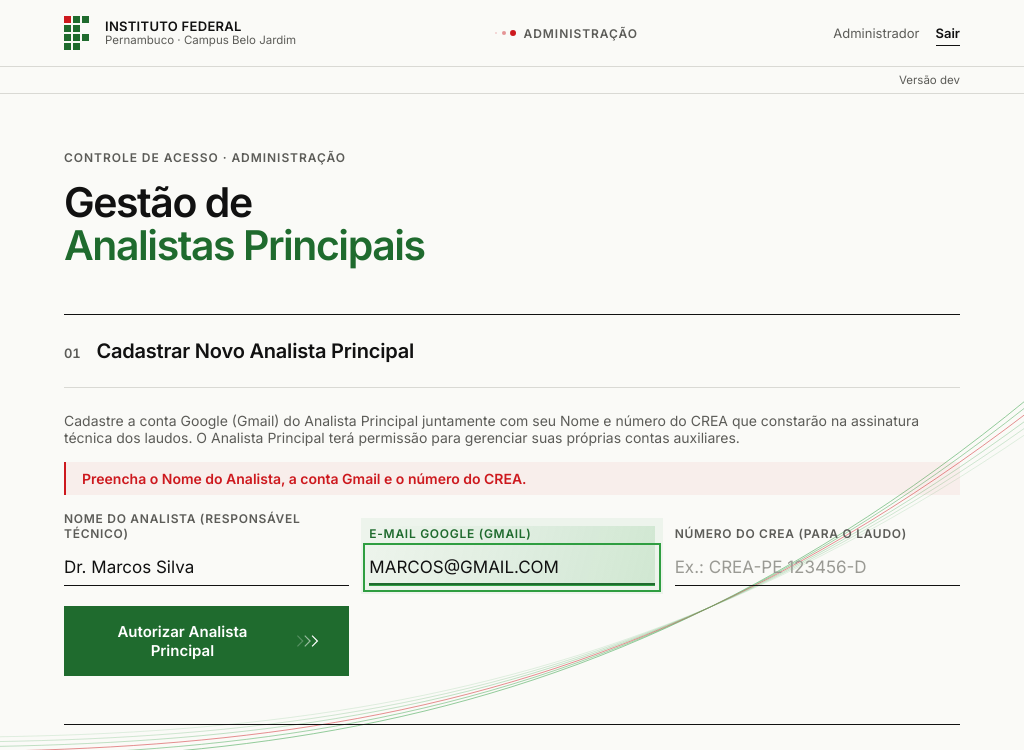
Test: PowerUserPage › valida campos obrigatórios, cadastra analista com sucesso e trata erro 409
The width and height of the screenshot is (1024, 750).
Earlier steps of the test are not shown.
Type "CREA-PE 99999-D" into the field labelled "Número do CREA (para o Laudo)" at (817, 568), box [675,549,960,586]
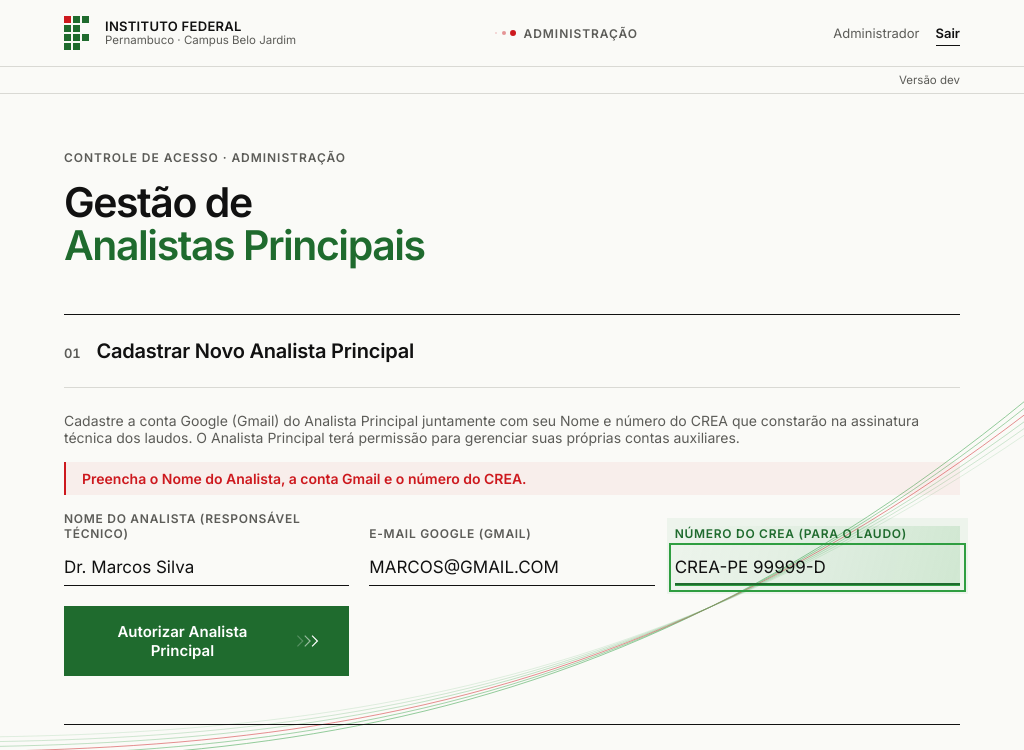
Click the button "Autorizar Analista Principal" at (207, 641), box [64,606,349,676]
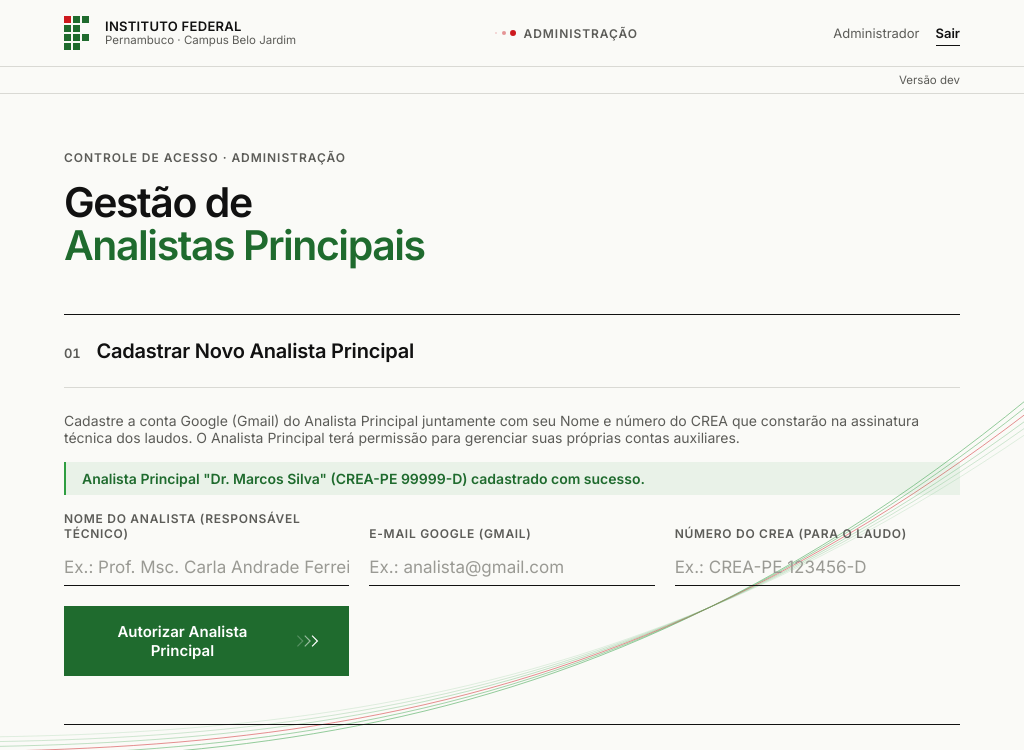
Expected: the message reads "Analista Principal \"Dr. Marcos Silva\" (CREA-PE 99999-D) cadastrado com sucesso.", [82,470,645,487]
Expected: the field labelled "Nome do Analista (Responsável Técnico)" is empty
Expected: the field labelled "E-mail Google (Gmail)" is empty, [369,549,655,586]
// Tenta cadastrar duplicado e recebe 409
Type "Outro" into the field labelled "Nome do Analista (Responsável Técnico)" at (207, 568), box [64,549,349,586]
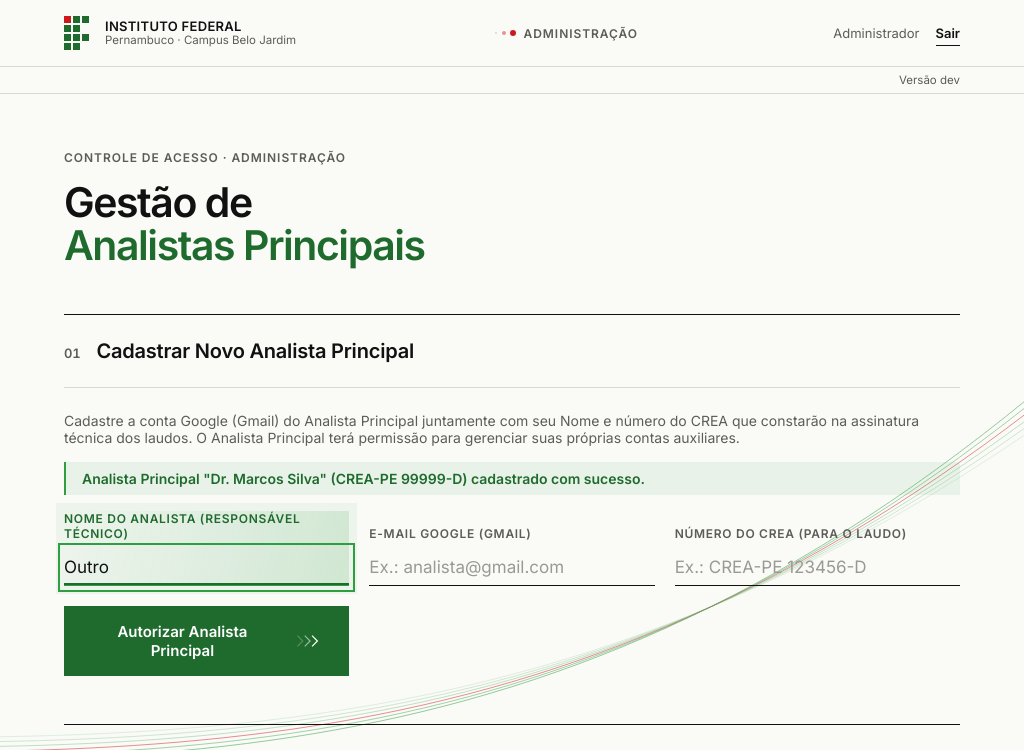
Type "marcos@gmail.com" into the field labelled "E-mail Google (Gmail)" at (512, 568), box [369,549,655,586]
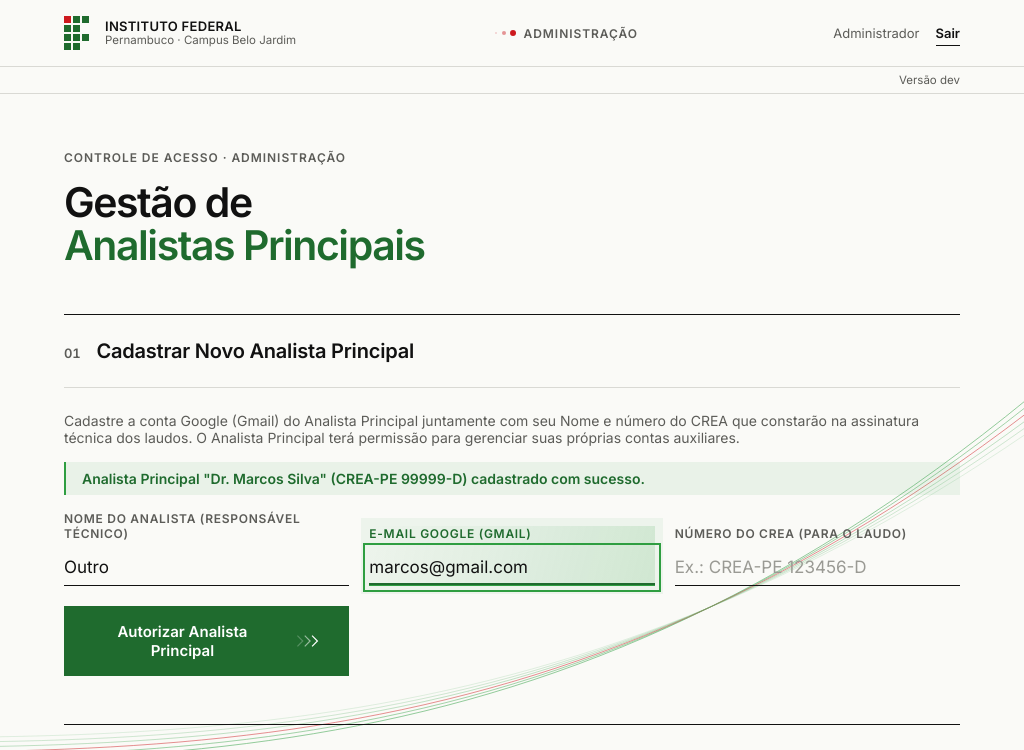
Type "CREA-PE 11111-D" into the field labelled "Número do CREA (para o Laudo)" at (817, 568), box [675,549,960,586]
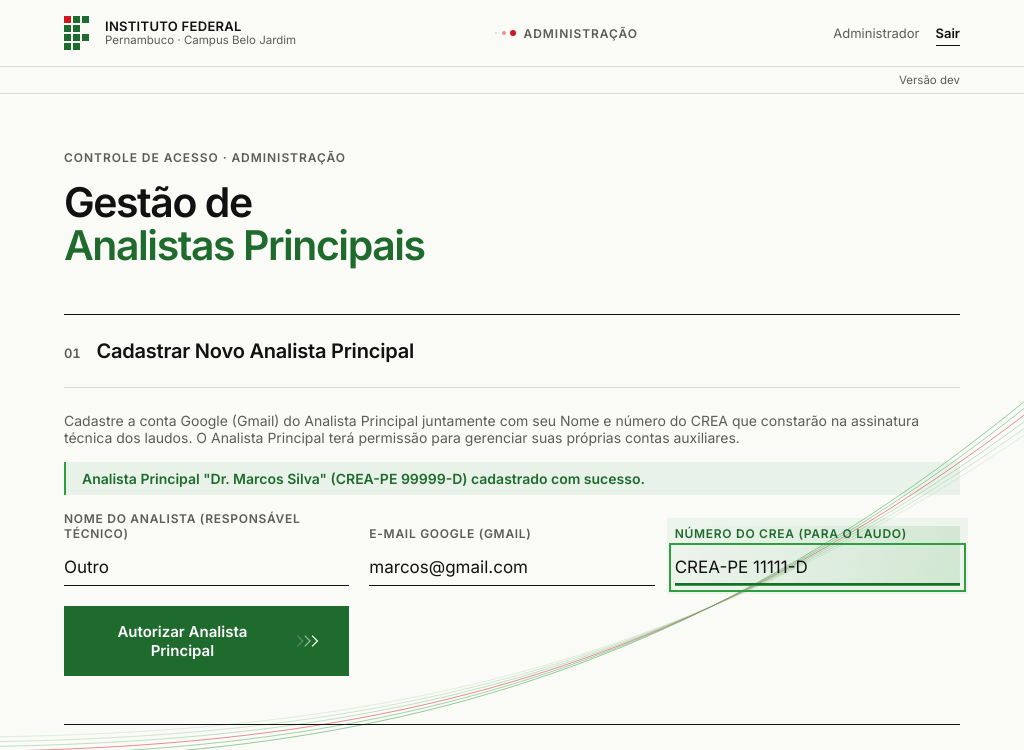
Click the button "Autorizar Analista Principal" at (207, 641), box [64,606,349,676]
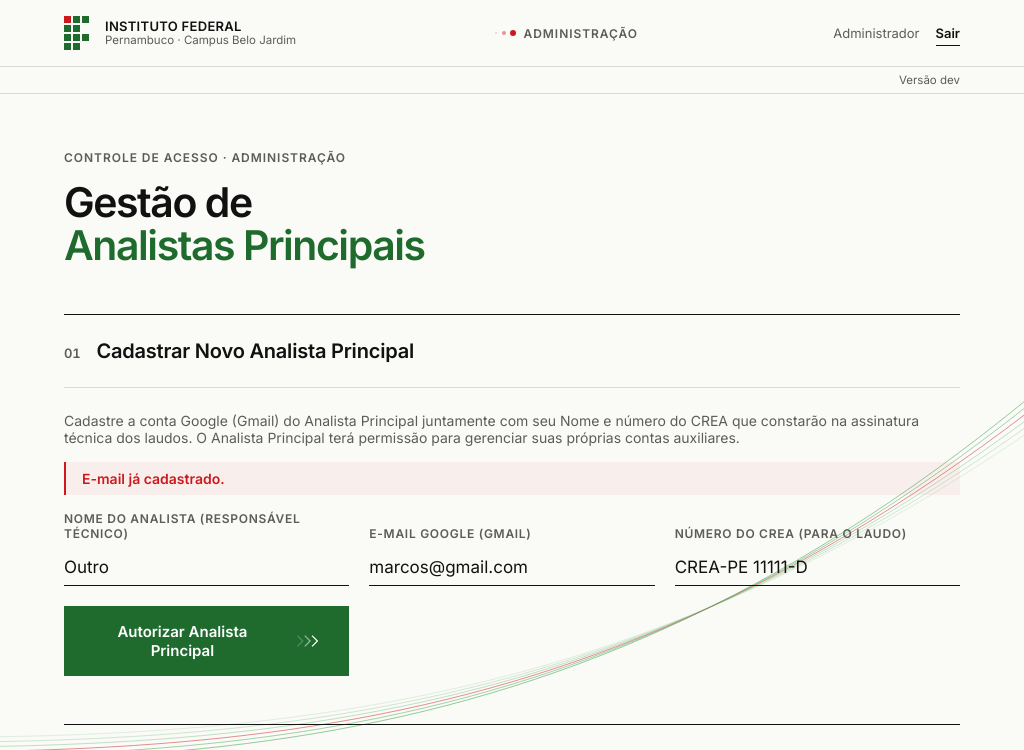
Expected: the message reads "E-mail já cadastrado.", [82,470,225,487]
